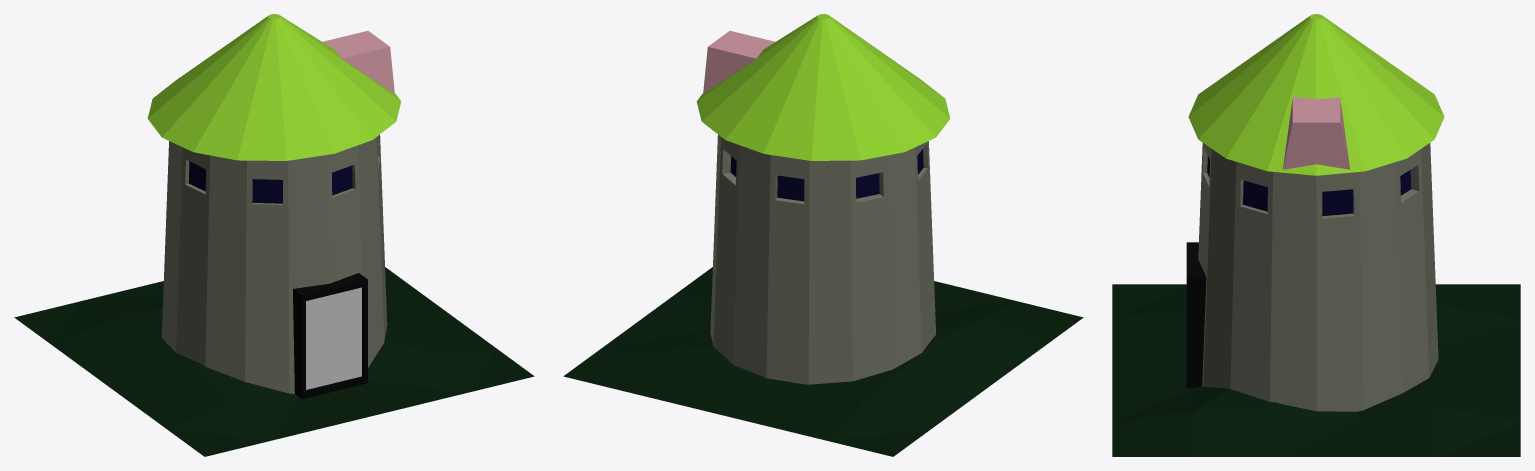
Rendered from mill_body.obj.
3 renders of one model, left to right at view 1: azimuth 30°, elevation 25°; view 2: azimuth 150°, elevation 25°; view 3: azimuth 270°, elevation 25°, orthographic. The views are drawn at different scales.
Visible parts, largest first — view 1: WindmillBody, Base, Door, TopBox; view 2: WindmillBody, Base, TopBox; view 3: WindmillBody, Base, TopBox, Door.
Boxes of the visible parts, <box> form: WindmillBody: <box>147,14,401,393</box>; Base: <box>14,267,534,456</box>; Door: <box>293,273,367,399</box>; TopBox: <box>322,30,394,93</box>; WindmillBody: <box>696,14,950,384</box>; Base: <box>563,267,1083,456</box>; TopBox: <box>703,30,775,93</box>; WindmillBody: <box>1188,14,1444,411</box>; Base: <box>1112,284,1520,456</box>; TopBox: <box>1282,97,1350,169</box>; Door: <box>1186,242,1206,387</box>.
Bounding box in the file's own units: 10 × 9.6 × 10.
